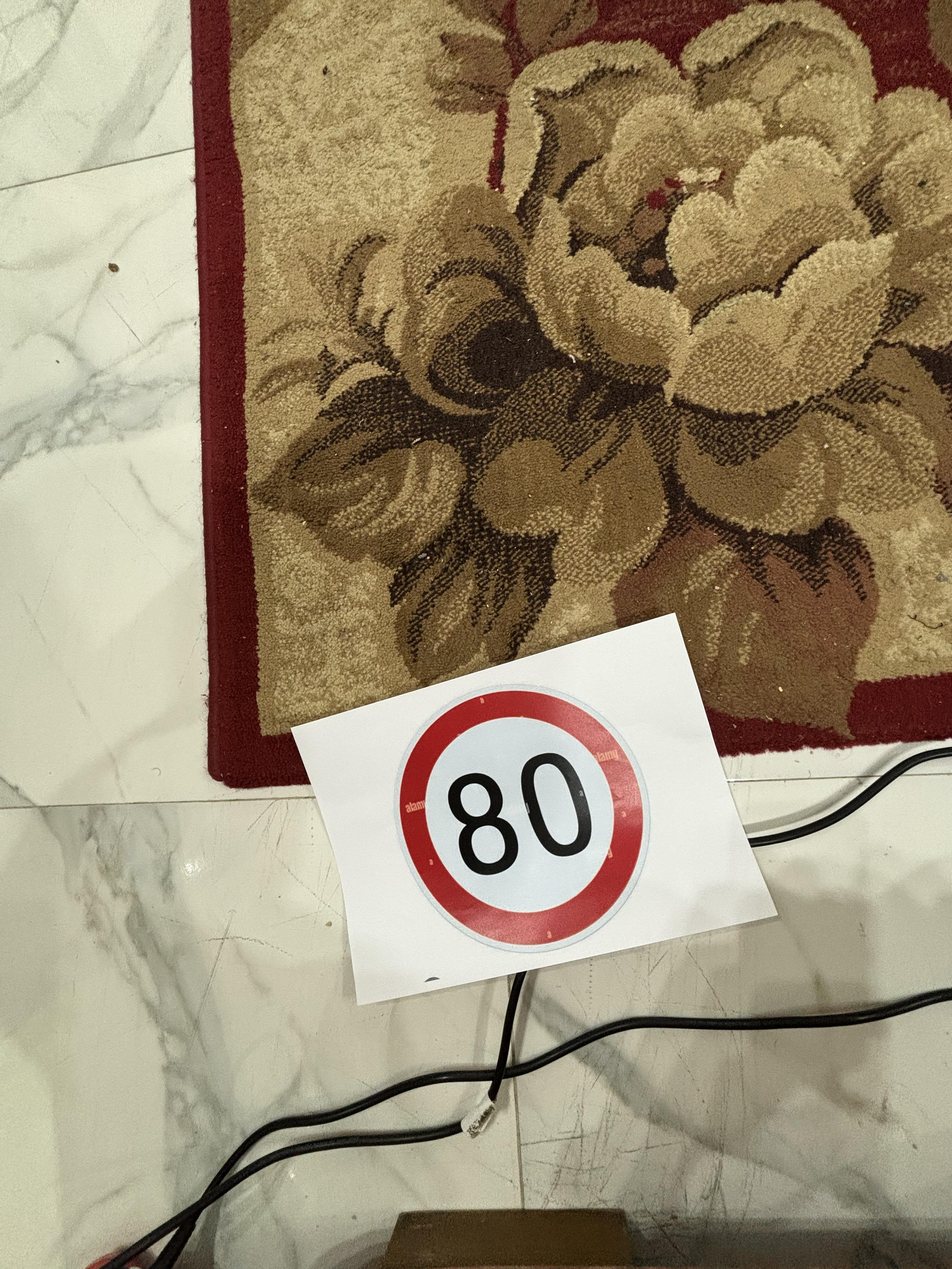80-Speed: (394, 674, 641, 953)
